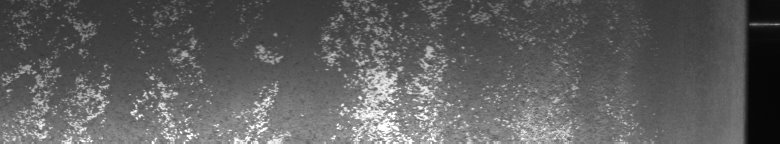kb: (4, 4, 638, 136)
